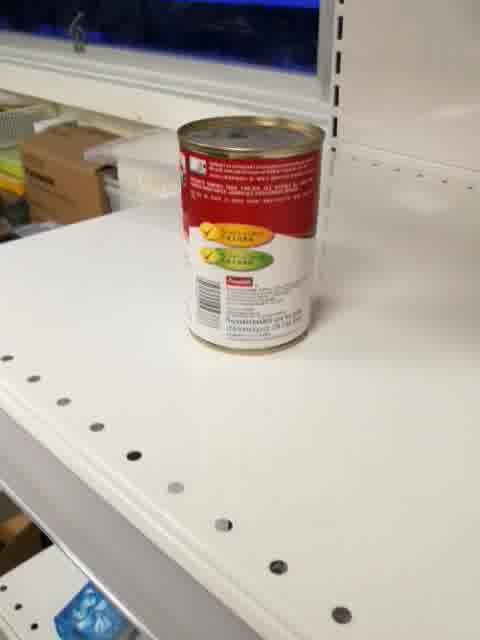tomatosoup: (175, 113, 328, 356)
